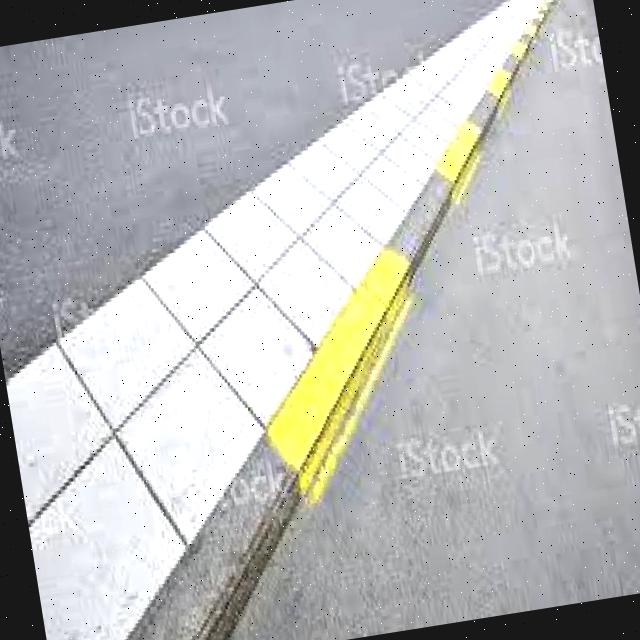curb: (232, 267, 450, 518), (88, 463, 333, 640), (364, 162, 518, 323), (431, 85, 528, 176)
